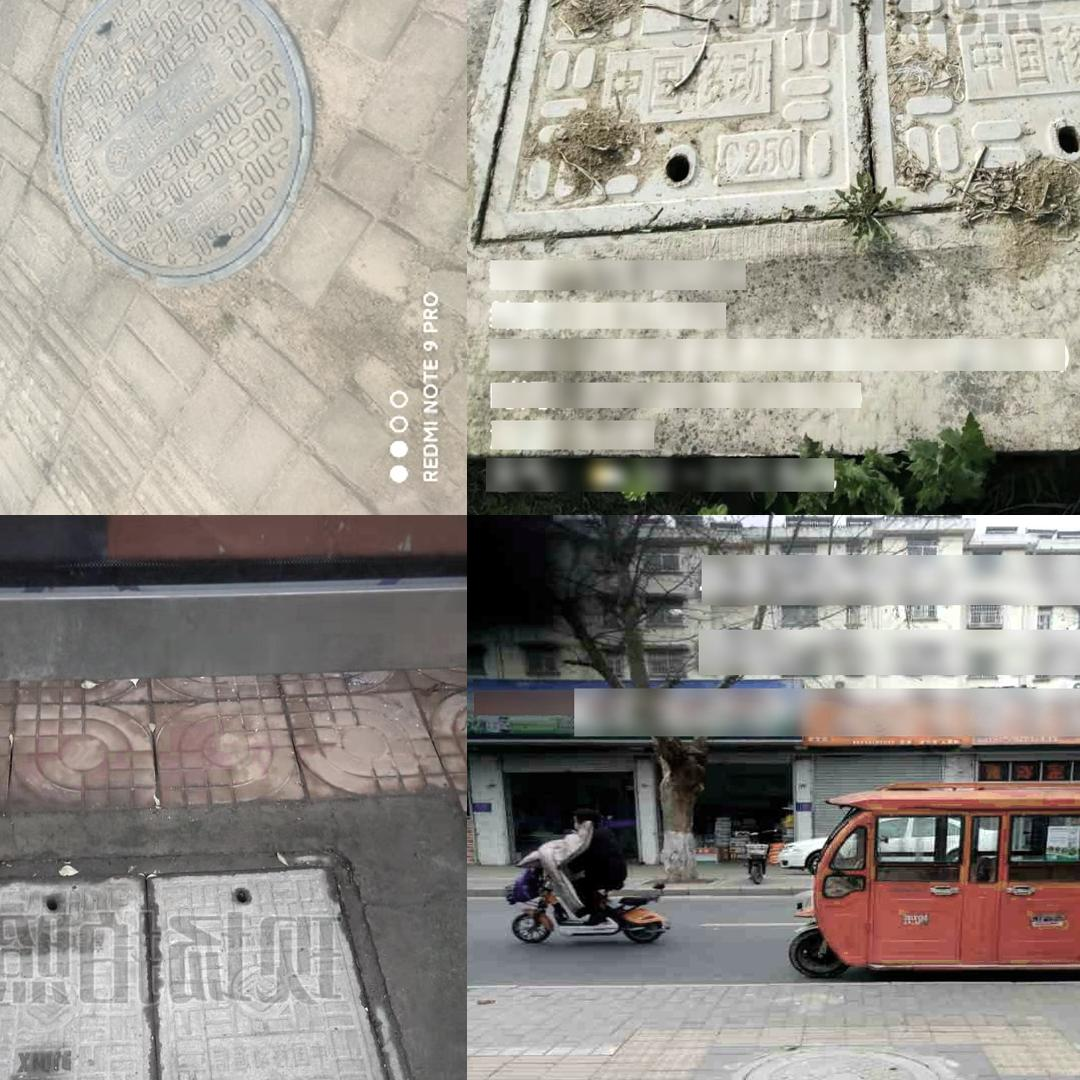good: (469, 0, 1080, 267), (0, 850, 425, 1080), (52, 0, 315, 284), (730, 1048, 954, 1080)
